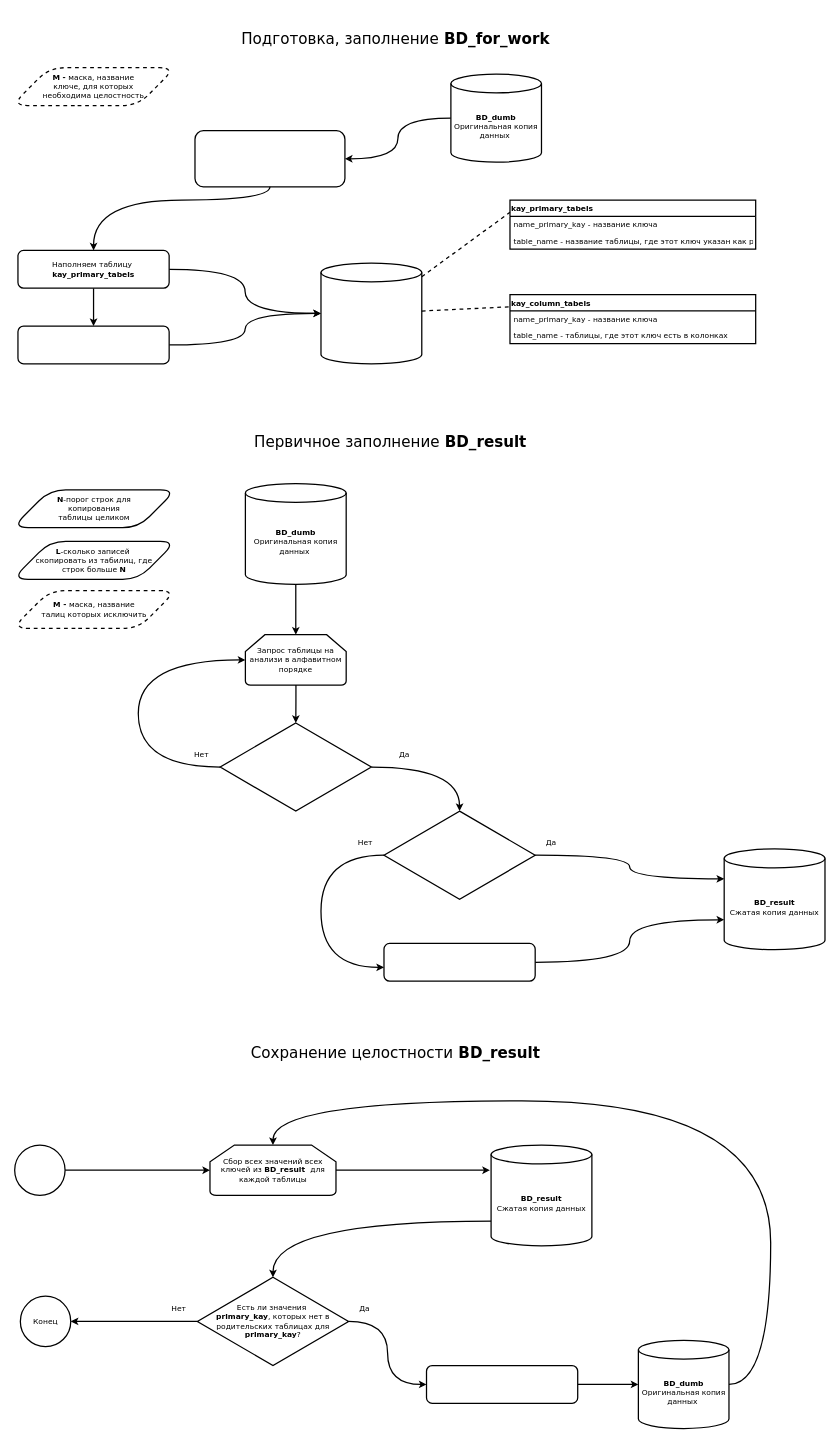
Image size: 836x1440. Some labels were removed from this diagram. Here are the shapes that lost their labels. From the top down, the centre of each, then its label:
At point 269,158: "Сканирование BD1 на поиск всех ключей по маске M или и по типу primary_kay".
At point 371,313: "BD_for_work Рабочие таблицы для работы приложения".
At point 93,344: "Наполняем таблицу kay_column_tabels".
At point 295,766: "Таблица проходит маску M ?".
At point 459,855: "Количество строк в табилце меньше N ?".
At point 459,962: "Берём последние L строк".
At point 39,1170: "Запуск".
At point 502,1384: "Копируем отсутвующие строки для primary_kay из BD_dumb".
